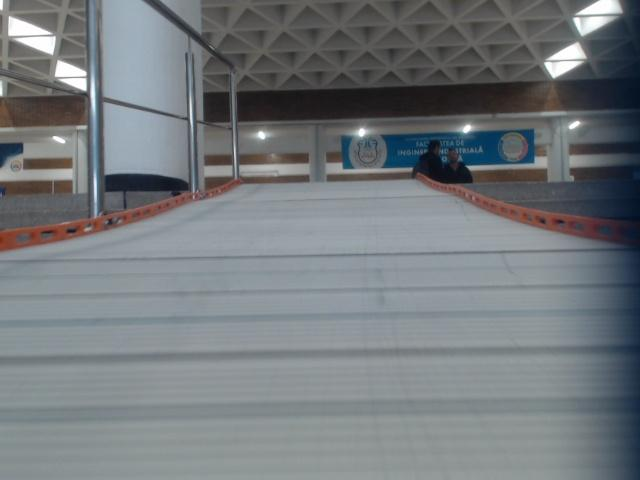rampUp: (0, 176, 639, 479)
ramps-railing: (138, 0, 237, 177), (1, 69, 232, 132), (85, 1, 105, 215), (184, 53, 196, 192)
